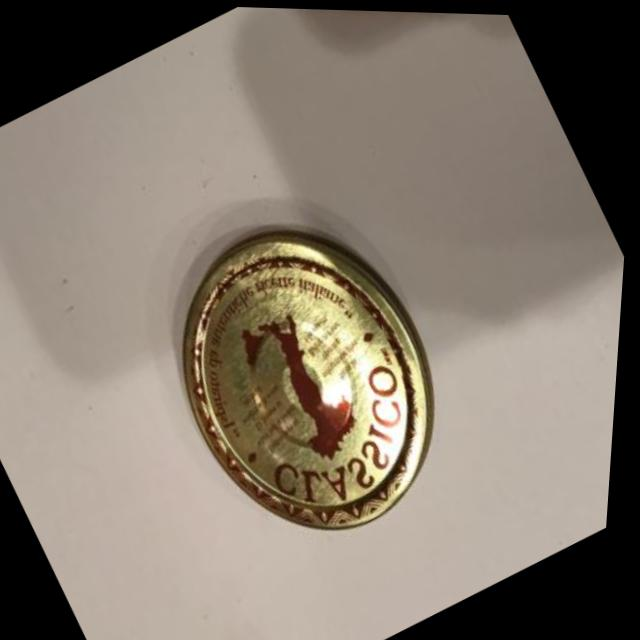metal: (79, 126, 551, 630)
